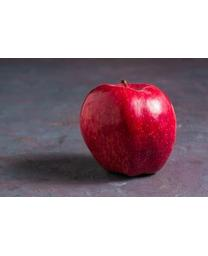apple: (78, 80, 176, 177)
